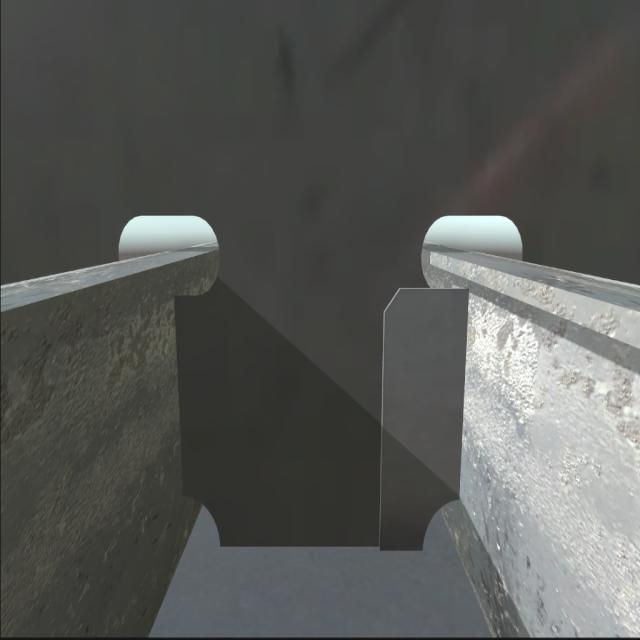fillet_hole: (419, 493, 459, 551), (182, 492, 220, 550)
fillet_yong_jeop_jang: (213, 534, 435, 564)
longi_yong_jeop_jang: (450, 281, 481, 508), (168, 293, 196, 507)
plate_CP03: (378, 289, 468, 552)
